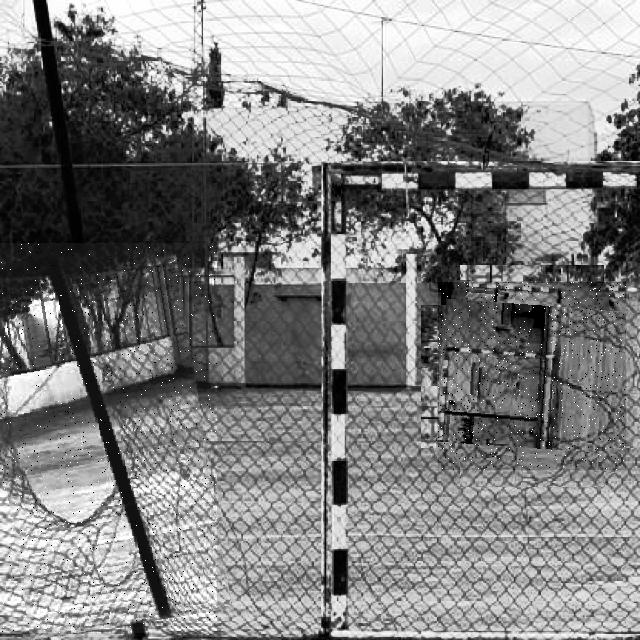anomaly-fence: (0, 243, 217, 633), (438, 282, 626, 470)
